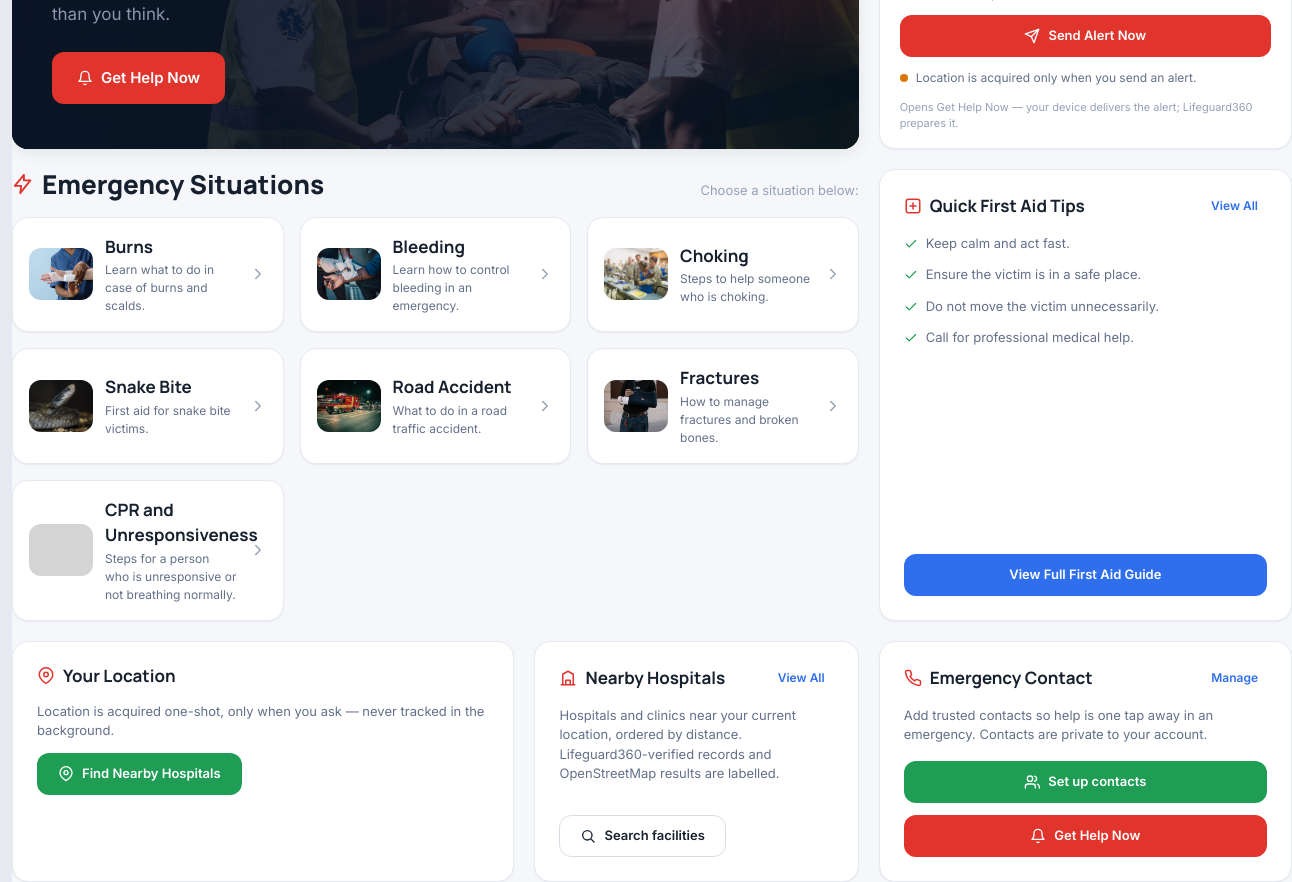
HomePage — approved structure › shows honest copy and never searches when the browser refuses location
(page scrolled)
Click the button "Find Nearby Hospitals" at (139, 774), box [37,753,242,795]
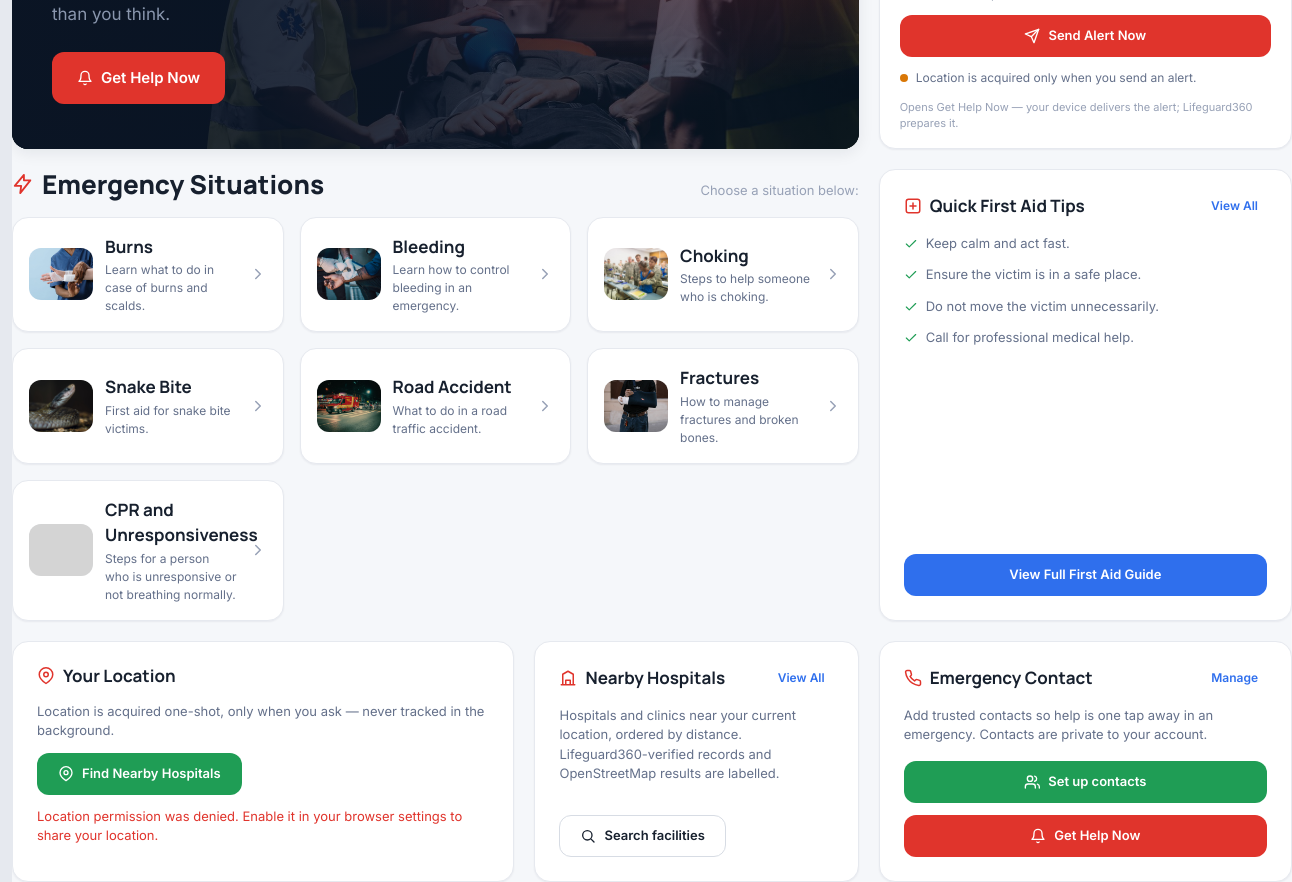
Now the message shows "permission was denied", box [37,808,462,844]
